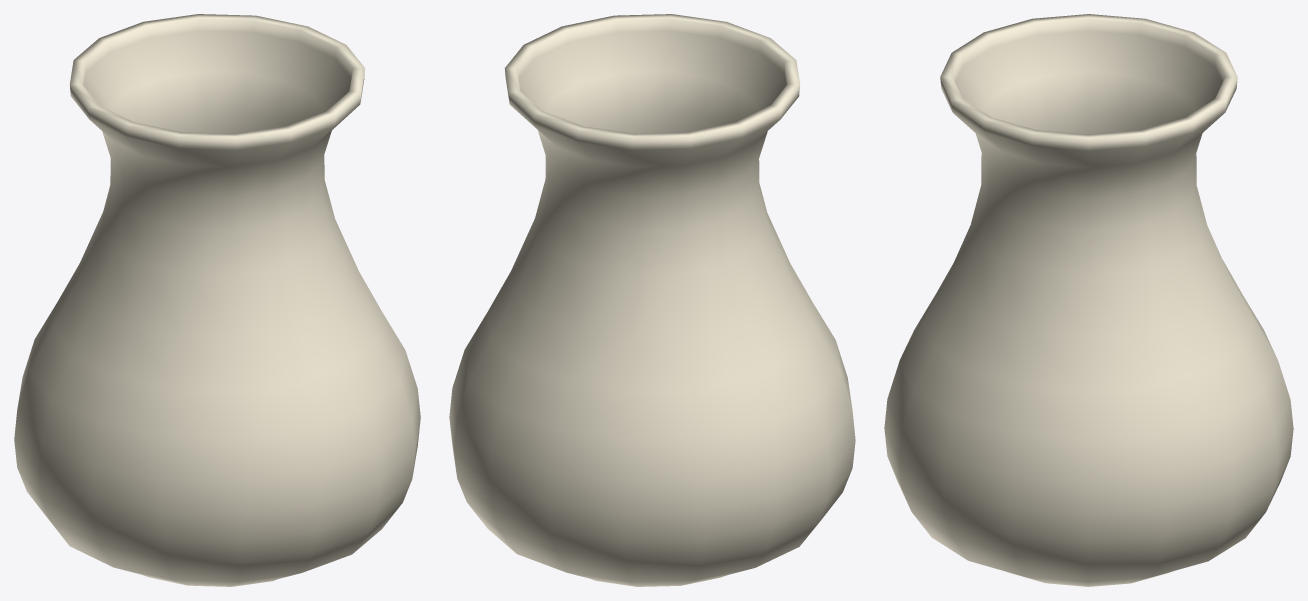
File: Vase_1.fbx
3 views of the same model, side by side, from view 1: azimuth 30°, elevation 25°; view 2: azimuth 150°, elevation 25°; view 3: azimuth 270°, elevation 25° (orthographic).
Parts seen in each view (by area): view 1: Vase_1; view 2: Vase_1; view 3: Vase_1.
Part boxes in pixels (bbox=[...]): Vase_1: bbox=[14, 14, 420, 586]; Vase_1: bbox=[449, 14, 855, 586]; Vase_1: bbox=[884, 14, 1293, 586].
Bounding box in the file's own units: 16.7 × 20.84 × 16.7.
